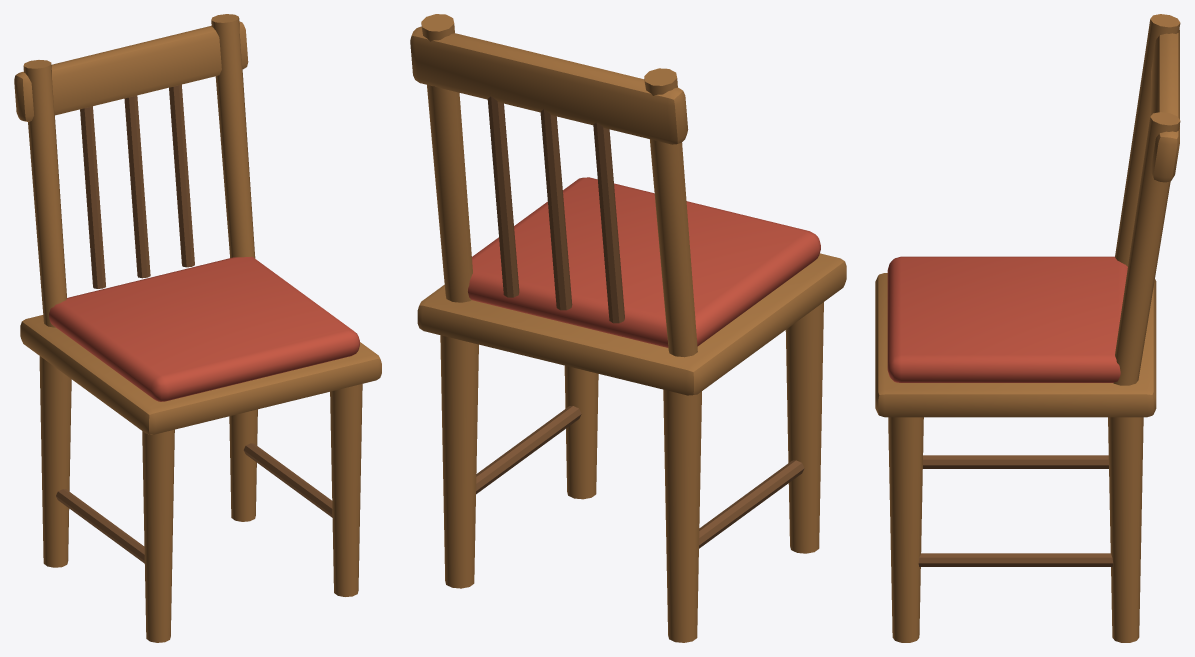
The model's file is chair.glb.
3 renders of one model, left to right at view 1: azimuth 30°, elevation 25°; view 2: azimuth 150°, elevation 25°; view 3: azimuth 270°, elevation 25°, orthographic. The views are drawn at different scales.
Parts seen in each view (by area): view 1: chair; view 2: chair; view 3: chair.
Part boxes in pixels (x1,y1,x2,y2): chair: [14, 14, 381, 642]; chair: [410, 14, 846, 642]; chair: [875, 14, 1180, 642].
Bounding box in the file's own units: 0.48 × 0.941 × 0.4995.
